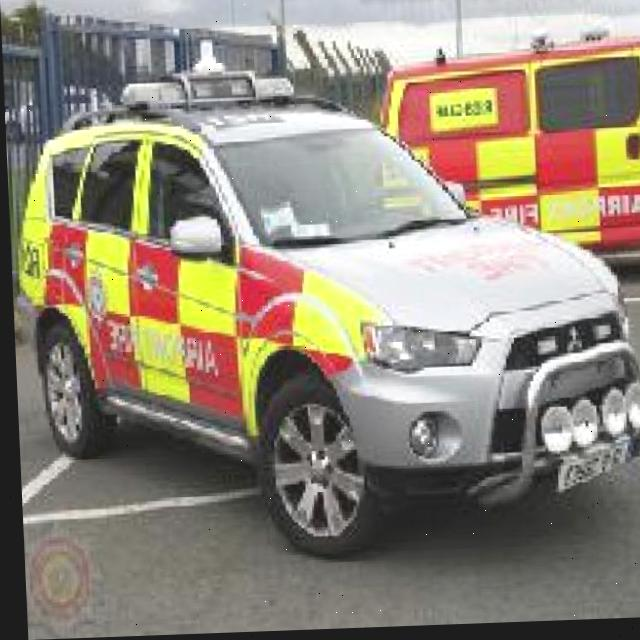emergency: (6, 85, 640, 570), (374, 32, 640, 281)
